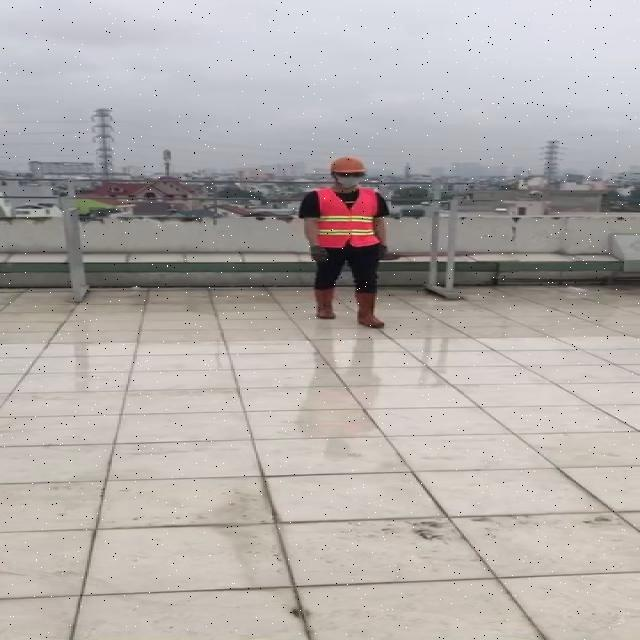Hard_hat: (324, 154, 370, 180)
Person: (287, 151, 400, 339)
